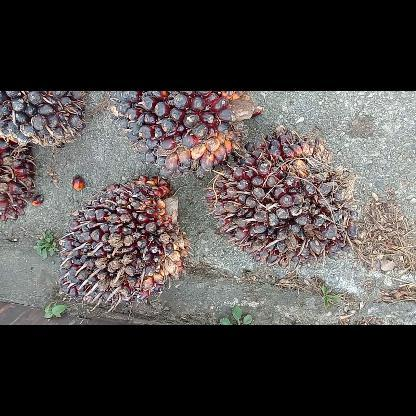TBS mentah: (206, 128, 356, 266), (60, 174, 190, 304), (107, 90, 260, 176), (0, 90, 87, 146)
